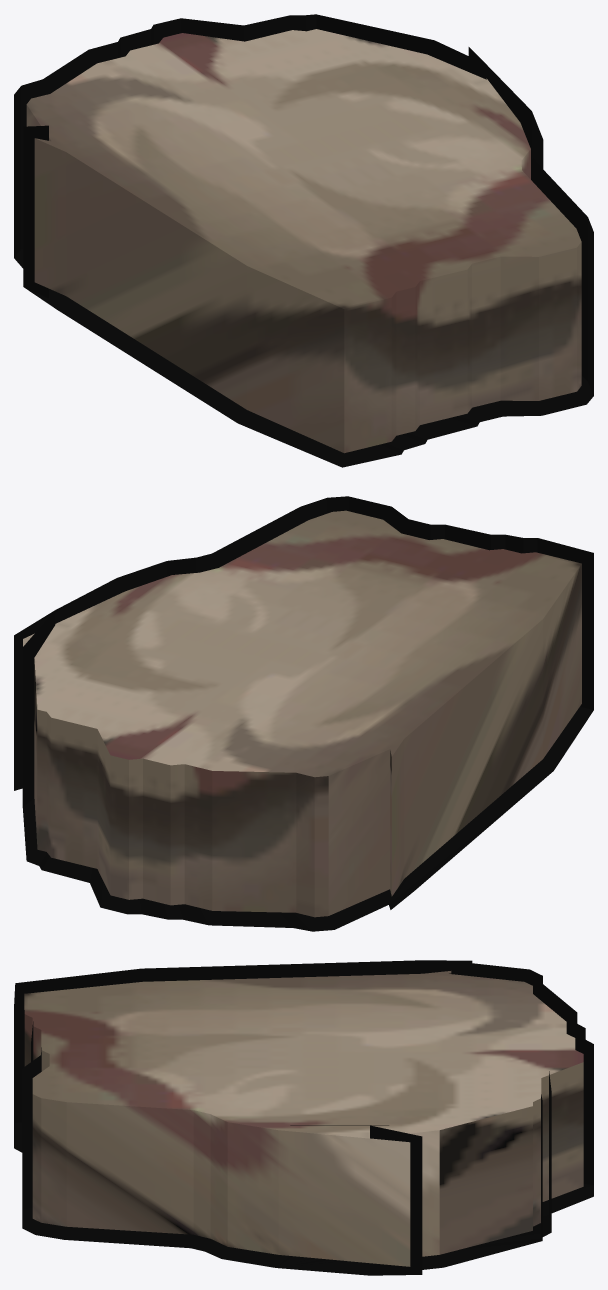
File: Building_CocoonMegaspider_Things_Building_Natural_CocoonMegaspider_CocoonMegaspiderB.glb
3 renders of one model, top to bottom at view 1: azimuth 30°, elevation 25°; view 2: azimuth 150°, elevation 25°; view 3: azimuth 270°, elevation 25°, orthographic. The views are drawn at different scales.
Visible parts, largest first — view 1: Body, Outline; view 2: Body, Outline; view 3: Body, Outline.
Part boxes in pixels (x1,y1,x2,y2): Body: [26, 29, 581, 453]; Outline: [14, 14, 593, 467]; Body: [23, 510, 581, 917]; Outline: [14, 496, 593, 931]; Body: [24, 971, 583, 1266]; Outline: [14, 960, 593, 1275].
Size of the model in its own units: 0.6844 by 0.2728 by 0.9546.
2 materials, 1 textured.
